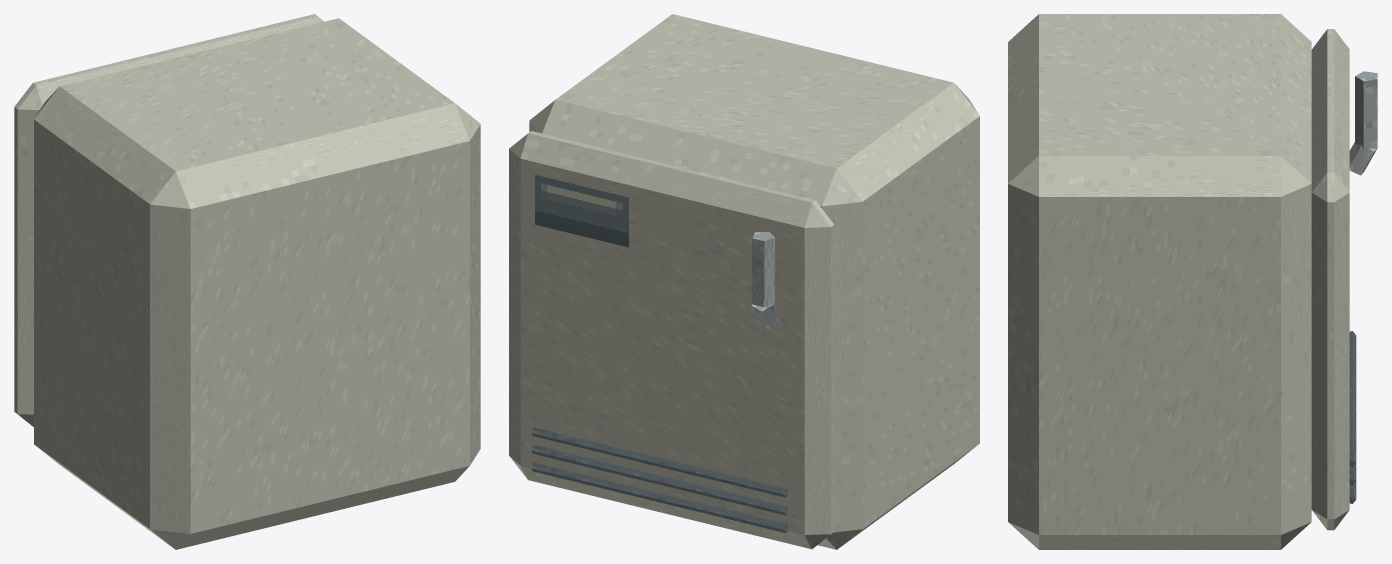
The model's file is minifreezer.glb.
3 views of the same model, side by side, from view 1: azimuth 30°, elevation 25°; view 2: azimuth 150°, elevation 25°; view 3: azimuth 270°, elevation 25° (orthographic). The views are drawn at different scales.
Visible parts, largest first — view 1: block_insulated appliance body, block_gasket and door; view 2: block_gasket and door, block_insulated appliance body, block_compressor grille 0 (×3), block_freezer badge, block_capped appliance handle 1; view 3: block_insulated appliance body, block_gasket and door, block_capped appliance handle 1, block_compressor grille 0, block_capped appliance handle 0.
Boxes of the visible parts, x1,y1,x2,y2 form: block_insulated appliance body: [34, 18, 480, 549]; block_gasket and door: [14, 14, 323, 426]; block_gasket and door: [509, 131, 834, 549]; block_insulated appliance body: [529, 14, 979, 549]; block_compressor grille 0 (×3): [531, 427, 787, 532]; block_freezer badge: [535, 175, 628, 247]; block_capped appliance handle 1: [752, 231, 774, 307]; block_insulated appliance body: [1008, 14, 1311, 549]; block_gasket and door: [1311, 29, 1349, 530]; block_capped appliance handle 1: [1355, 71, 1377, 149]; block_compressor grille 0: [1349, 331, 1356, 467]; block_capped appliance handle 0: [1349, 142, 1377, 175].
Bounding box in the file's own units: 0.7587 × 0.83 × 0.7059.
Materials: 1 (1 with a texture image).
